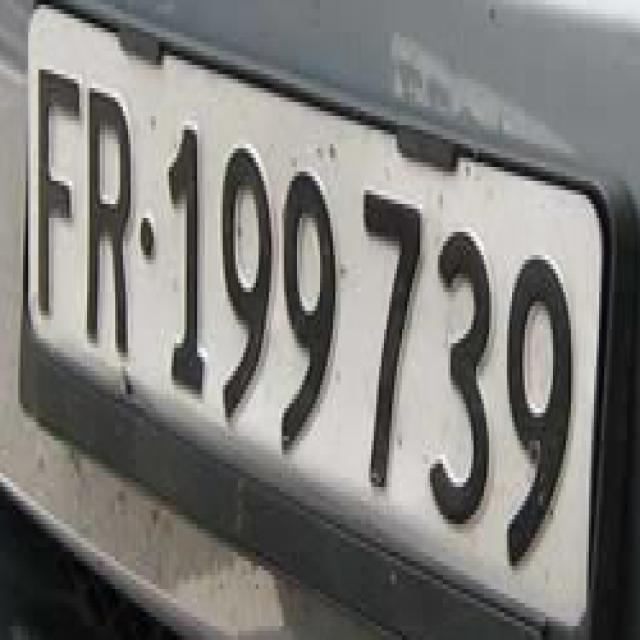Autre: (19, 8, 604, 622)
